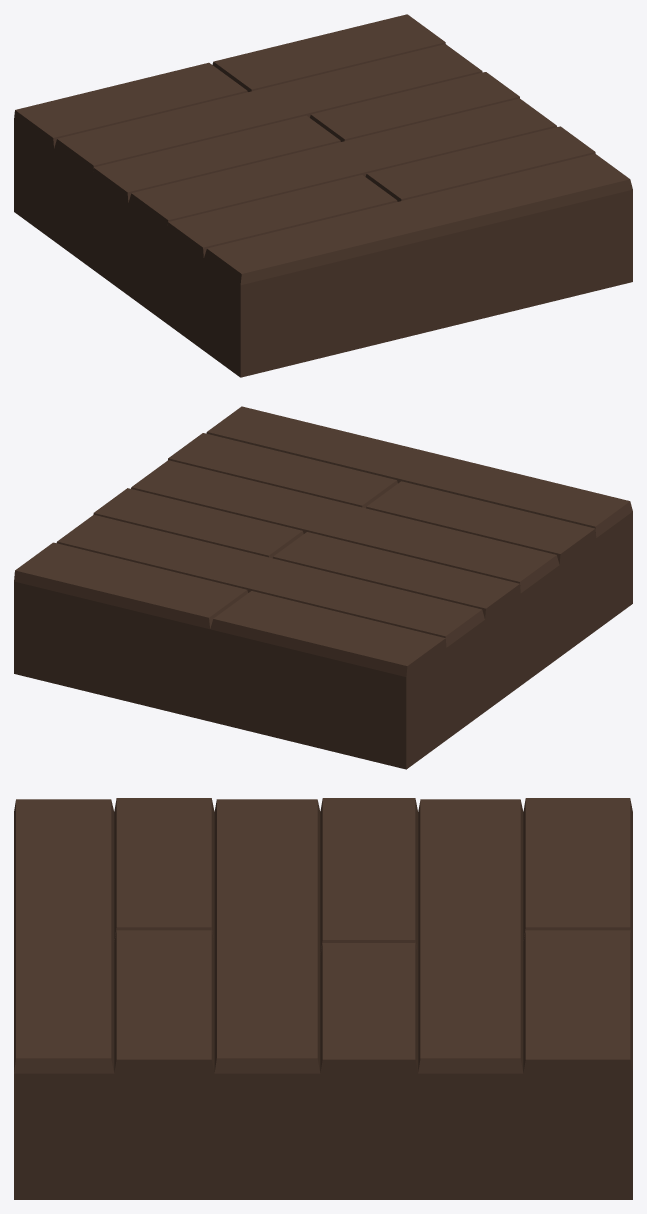
File: S_Floor._Ceeling.fbx
3 views of the same model, one above another, from view 1: azimuth 30°, elevation 25°; view 2: azimuth 150°, elevation 25°; view 3: azimuth 270°, elevation 25° (orthographic). The views are drawn at different scales.
Visible parts, largest first — view 1: S_Floor._Ceeling; view 2: S_Floor._Ceeling; view 3: S_Floor._Ceeling.
Part boxes in pixels (x1,y1,x2,y2): S_Floor._Ceeling: (14, 14, 632, 377); S_Floor._Ceeling: (14, 406, 632, 769); S_Floor._Ceeling: (14, 798, 632, 1199).
Bounding box in the file's own units: 200 × 50 × 200.
